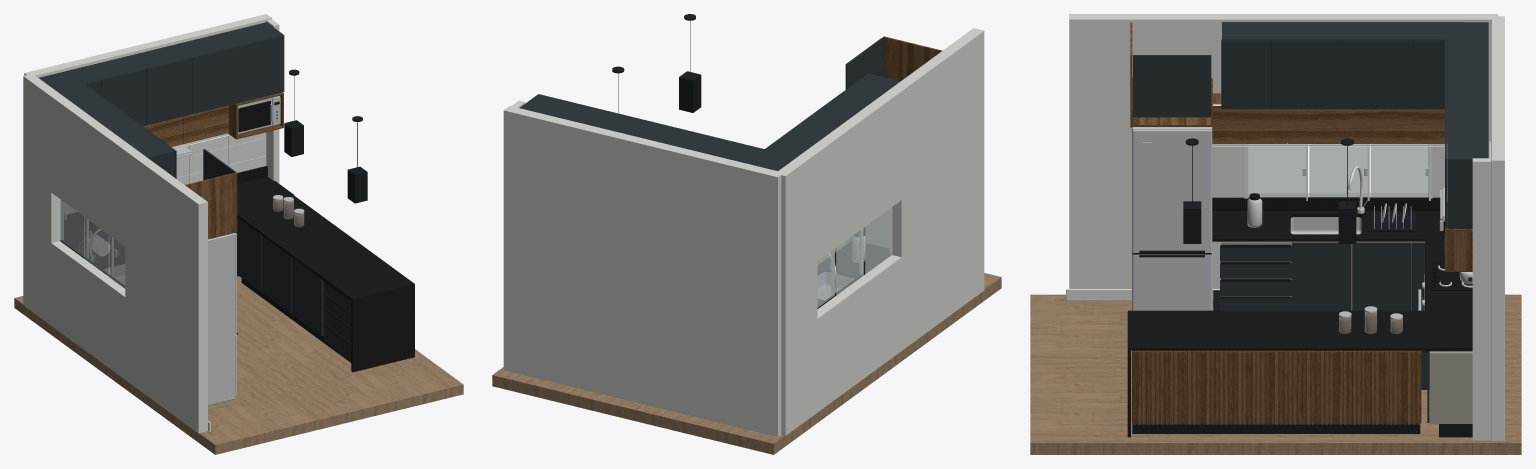
Rendered from cozinha-planejada.glb.
3 renders of one model, left to right at view 1: azimuth 30°, elevation 25°; view 2: azimuth 150°, elevation 25°; view 3: azimuth 270°, elevation 25°, orthographic. The views are drawn at different scales.
Parts seen in each view (by area): view 1: Parede esquerda com janela, Piso contínuo, Granito • península conectada, Granito • lateral cascata, Geladeira • gabinete, Aéreo • fundo em L, Aéreo • lateral, Porta grafite superior fundo.002, Porta grafite superior fundo.003, Porta grafite superior fundo.004, Parede posterior, Armário sobre geladeira • lateral (+21 smaller); view 2: Parede posterior, Parede esquerda com janela, Piso contínuo, Aéreo • fundo em L, Aéreo • lateral, Armário sobre geladeira • lateral, Janela • vidro fosco, Janela • vidro fosco.001, Granito • tampo pia, Armário sobre geladeira • porta, Pendente • caixa preta, Janela • vidro fosco.002 (+1 smaller); view 3: Parede esquerda com janela, Piso contínuo, Granito • península conectada, Península • fundo ripado, Geladeira • porta superior, Aéreo • fundo em L, Parede posterior, Ombreira junto ao microondas, Porta grafite superior lateral.002, Armário sobre geladeira • porta, Porta grafite superior lateral.001, Aéreo • lateral (+32 smaller).
Part boxes in pixels (x1,y1,x2,y2): Parede esquerda com janela: (23,73,207,433); Piso contínuo: (14,276,463,454); Granito • península conectada: (237,195,414,300); Granito • lateral cascata: (351,285,414,372); Geladeira • gabinete: (208,233,234,405); Aéreo • fundo em L: (39,22,283,89); Aéreo • lateral: (55,83,174,177); Porta grafite superior fundo.002: (146,57,192,125); Porta grafite superior fundo.003: (192,46,238,113); Porta grafite superior fundo.004: (238,35,284,102); Parede posterior: (24,14,271,77); Armário sobre geladeira • lateral: (185,172,237,239); Parede posterior: (503,106,781,436); Parede esquerda com janela: (775,28,984,435); Piso contínuo: (492,242,1001,454); Aéreo • fundo em L: (519,94,795,170); Aéreo • lateral: (758,74,900,162); Armário sobre geladeira • lateral: (883,36,942,81); Janela • vidro fosco: (865,207,892,274); Janela • vidro fosco.001: (836,228,863,294); Granito • tampo pia: (818,241,888,301); Armário sobre geladeira • porta: (845,37,883,89); Pendente • caixa preta: (679,71,701,112); Janela • vidro fosco.002: (817,249,834,307); Parede esquerda com janela: (1069,14,1498,288); Piso contínuo: (1030,294,1521,454); Granito • península conectada: (1128,310,1424,350); Península • fundo ripado: (1132,350,1421,423); Geladeira • porta superior: (1133,129,1211,252); Aéreo • fundo em L: (1447,22,1488,228); Parede posterior: (1491,16,1504,440); Ombreira junto ao microondas: (1472,158,1491,440); Porta grafite superior lateral.002: (1342,39,1412,109); Armário sobre geladeira • porta: (1133,55,1211,117); Porta grafite superior lateral.001: (1271,39,1340,109); Aéreo • lateral: (1222,22,1463,108).
Size of the model in its own units: 3.15 by 2.89 by 4.4.
Materials: 19 (3 with a texture image).
